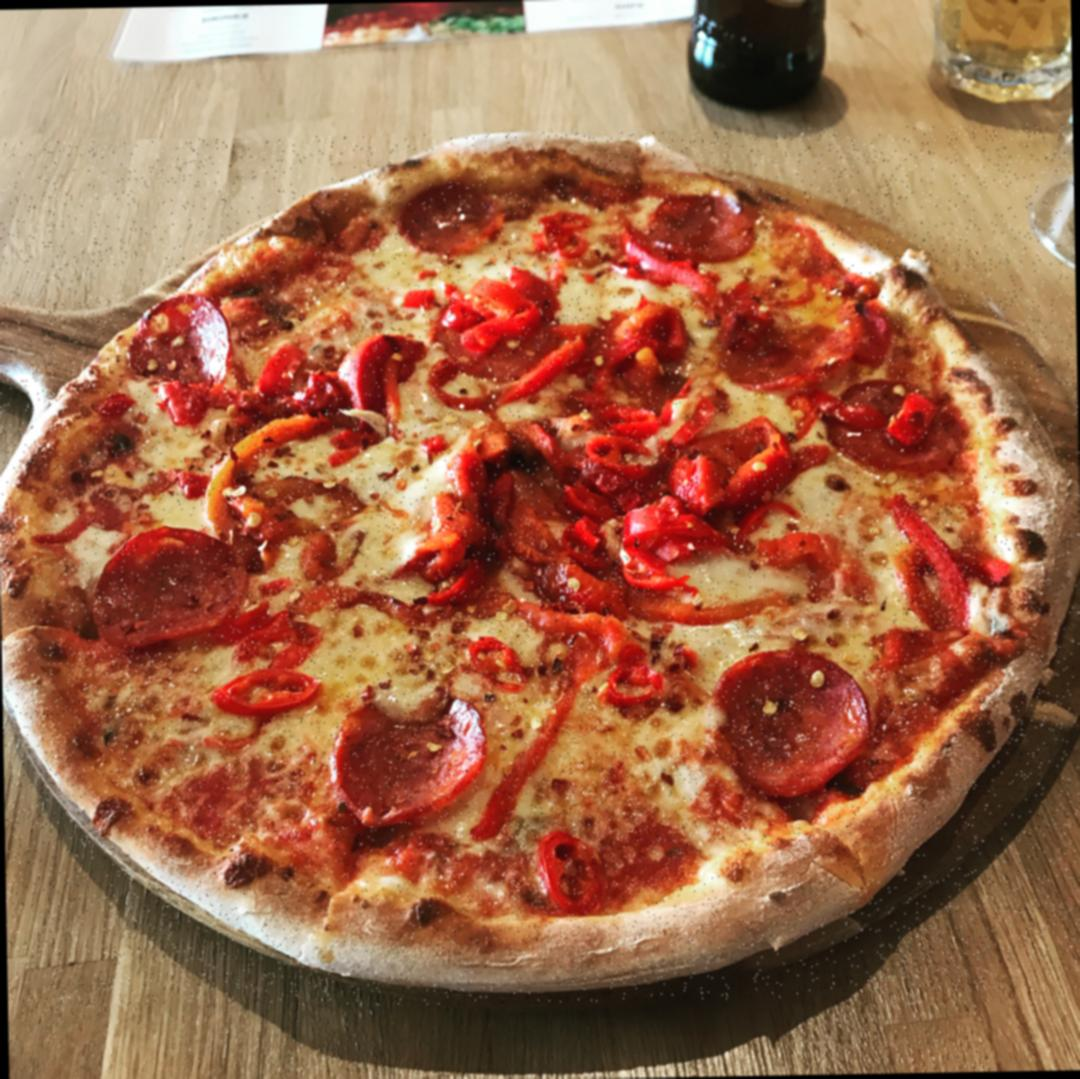Pepperoni: (337, 682, 494, 826), (710, 655, 862, 790), (84, 534, 254, 646), (116, 288, 224, 406), (313, 326, 430, 432), (826, 380, 944, 480), (410, 181, 532, 254), (647, 188, 761, 266), (449, 312, 557, 389)
Peppers: (592, 406, 796, 606), (501, 589, 666, 820), (179, 428, 338, 542), (581, 296, 699, 432), (896, 497, 976, 631), (624, 504, 724, 587), (212, 670, 322, 716), (471, 638, 528, 694), (610, 660, 675, 708)
Pizza: (0, 123, 1080, 1012)
Tomatoes: (451, 452, 572, 578)
